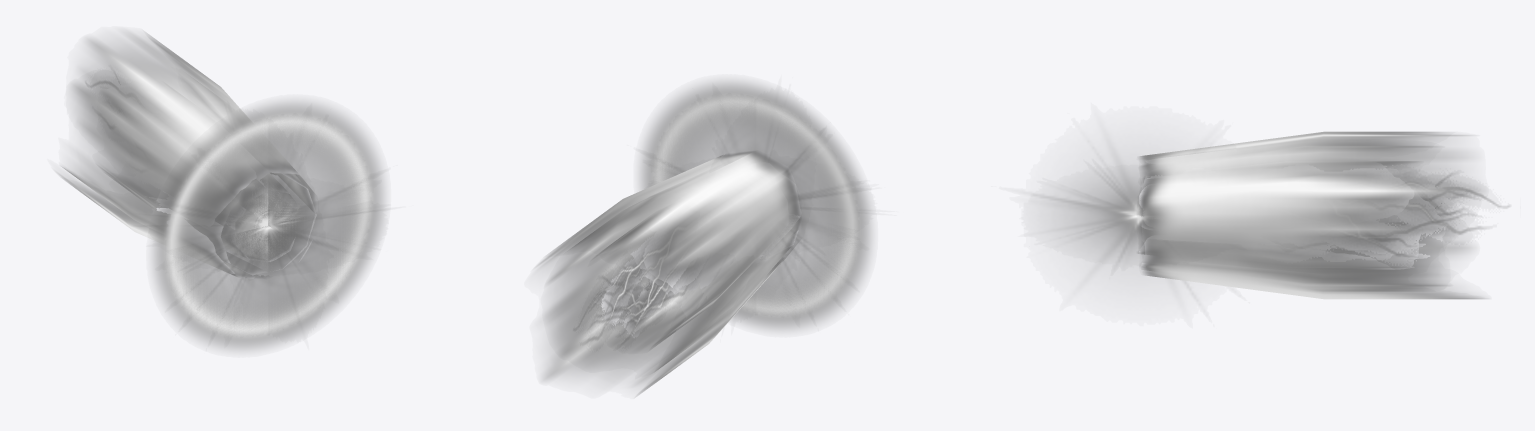
Rendered from si_eos_3300.glb.
3 renders of one model, left to right at view 1: azimuth 30°, elevation 25°; view 2: azimuth 150°, elevation 25°; view 3: azimuth 270°, elevation 25°, orthographic.
Visible parts, largest first — view 1: layer_03_si_est_0402, layer_04_si_est_0501, layer_00_si_est_0000; view 2: layer_04_si_est_0501, layer_03_si_est_0402, layer_00_si_est_0000, layer_05_si_est_0800, layer_06_si_est_0800, layer_08_si_est_0800, layer_07_si_est_0800; view 3: layer_04_si_est_0501, layer_00_si_est_0000, layer_06_si_est_0800, layer_05_si_est_0800.
Part boxes in pixels (box(x1,y1,x2,y2)): layer_03_si_est_0402: box(153, 102, 383, 349); layer_04_si_est_0501: box(58, 33, 314, 276); layer_00_si_est_0000: box(192, 149, 369, 310); layer_04_si_est_0501: box(537, 151, 800, 395); layer_03_si_est_0402: box(640, 82, 870, 329); layer_00_si_est_0000: box(671, 129, 836, 277); layer_05_si_est_0800: box(574, 226, 686, 344); layer_06_si_est_0800: box(586, 255, 695, 342); layer_08_si_est_0800: box(601, 276, 671, 327); layer_07_si_est_0800: box(595, 268, 689, 313); layer_04_si_est_0501: box(1139, 131, 1485, 299); layer_00_si_est_0000: box(1033, 152, 1187, 285); layer_06_si_est_0800: box(1376, 186, 1483, 244); layer_05_si_est_0800: box(1342, 182, 1508, 256).
Bounding box in the file's own units: 160 × 160 × 280.
6 materials, 6 textured.
